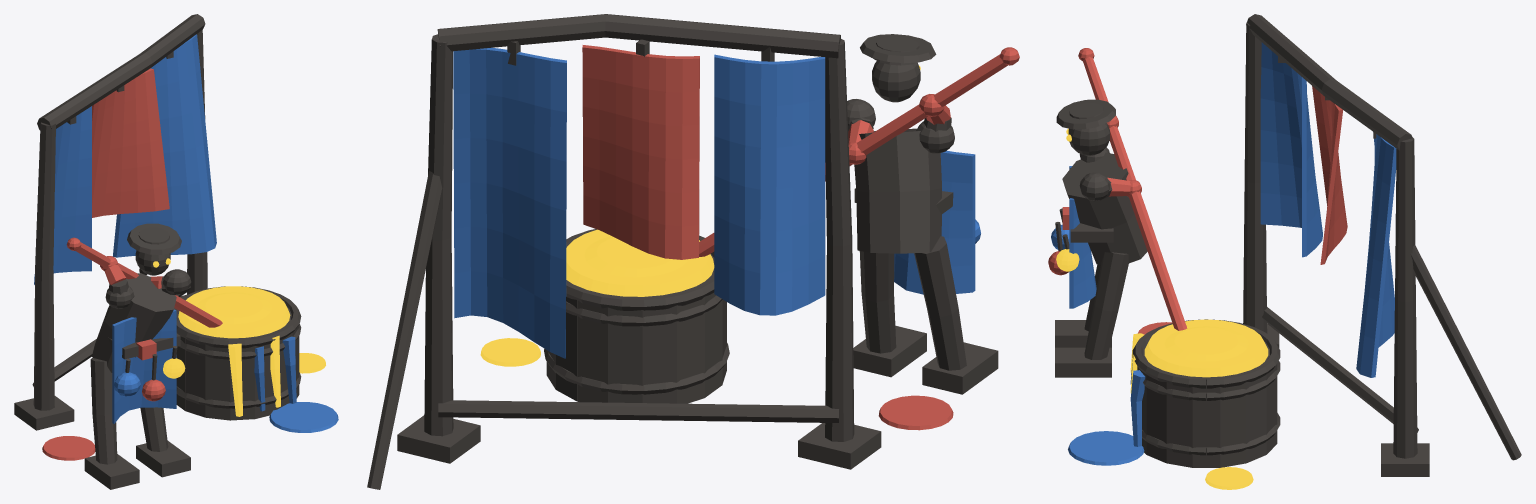
The model's file is dyer.glb.
3 views of the same model, side by side, from view 1: azimuth 30°, elevation 25°; view 2: azimuth 150°, elevation 25°; view 3: azimuth 270°, elevation 25° (orthographic). The views are drawn at different scales.
Visible parts, largest first — view 1: dyer_dark, dyer_body, dyer_bone, dyer_glow; view 2: dyer_dark, dyer_body, dyer_bone, dyer_glow; view 3: dyer_dark, dyer_body, dyer_bone, dyer_glow.
Part boxes in pixels (x1,y1,x2,y2): dyer_dark: [14, 14, 301, 489]; dyer_body: [34, 34, 338, 432]; dyer_bone: [42, 68, 222, 460]; dyer_glow: [153, 258, 325, 416]; dyer_dark: [367, 14, 998, 489]; dyer_body: [453, 47, 980, 358]; dyer_bone: [582, 45, 1019, 430]; dyer_glow: [480, 65, 920, 366]; dyer_dark: [1055, 14, 1521, 476]; dyer_body: [1051, 42, 1396, 465]; dyer_bone: [1048, 48, 1347, 334]; dyer_glow: [1056, 128, 1268, 489].
Size of the model in its own units: 2.83 by 2.6 by 3.28.
